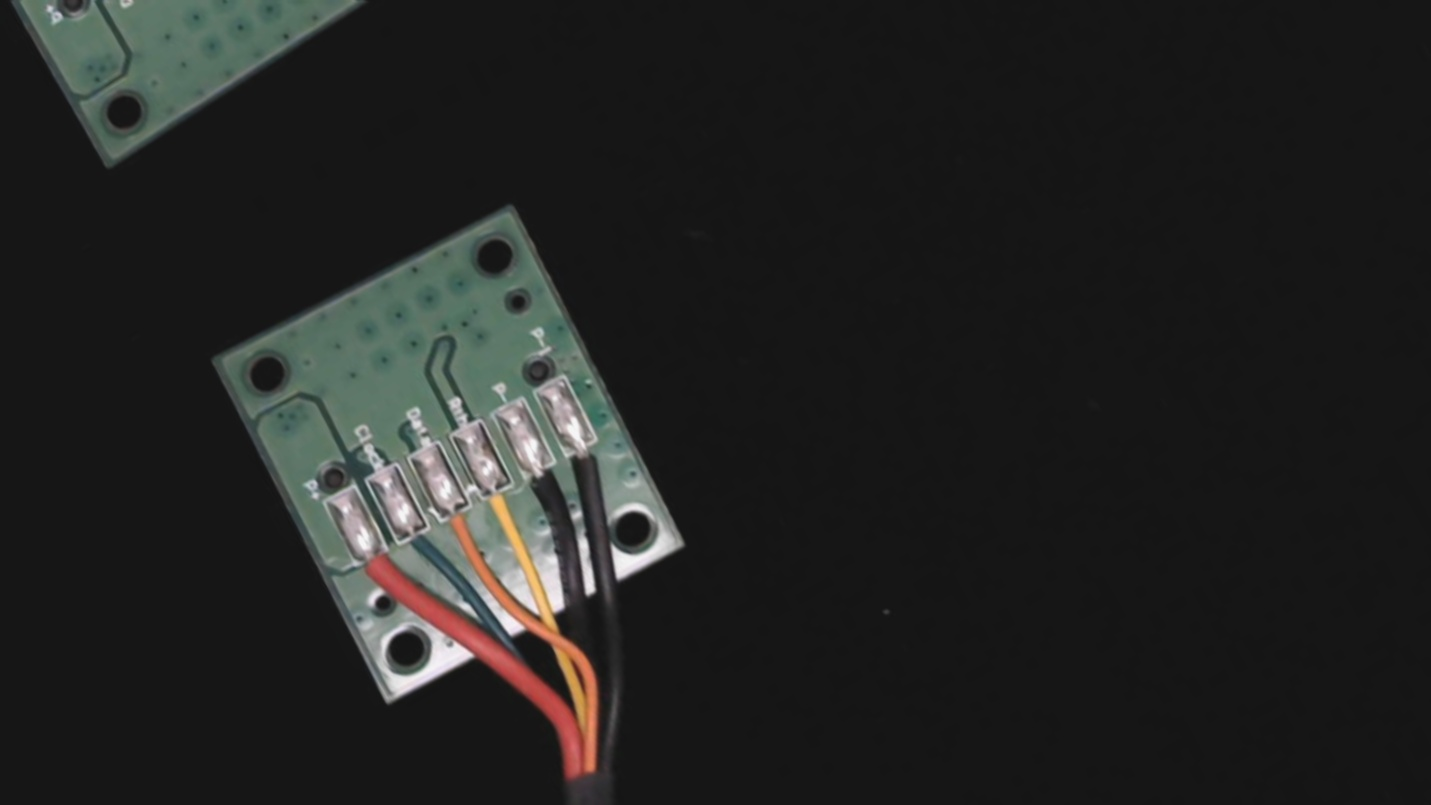Black: (508, 445, 585, 526)
Black1: (552, 419, 621, 491)
Green: (386, 512, 454, 583)
Orange: (427, 488, 503, 573)
Red: (345, 534, 418, 613)
Yellow: (461, 466, 543, 558)
